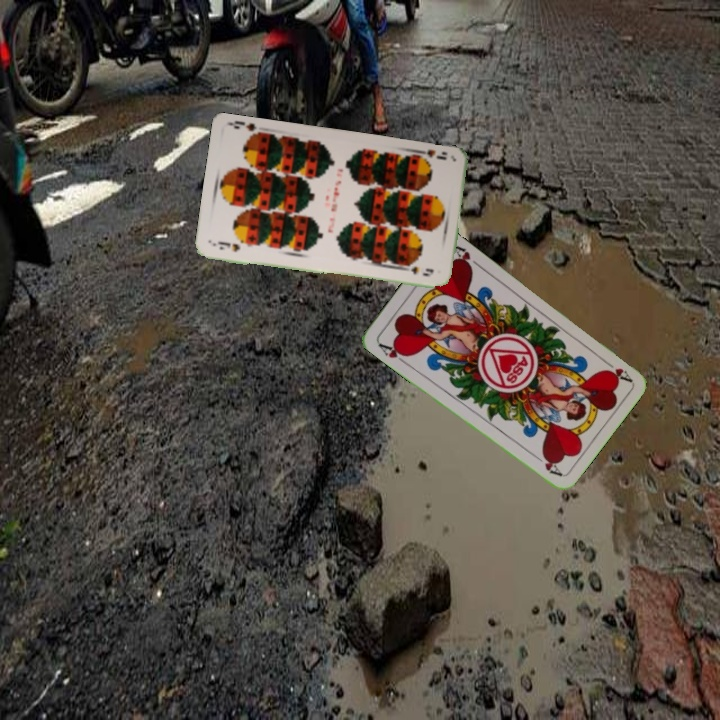HA: (598, 355, 634, 385), (374, 339, 411, 367)
S9: (413, 145, 449, 165), (215, 240, 242, 255)
